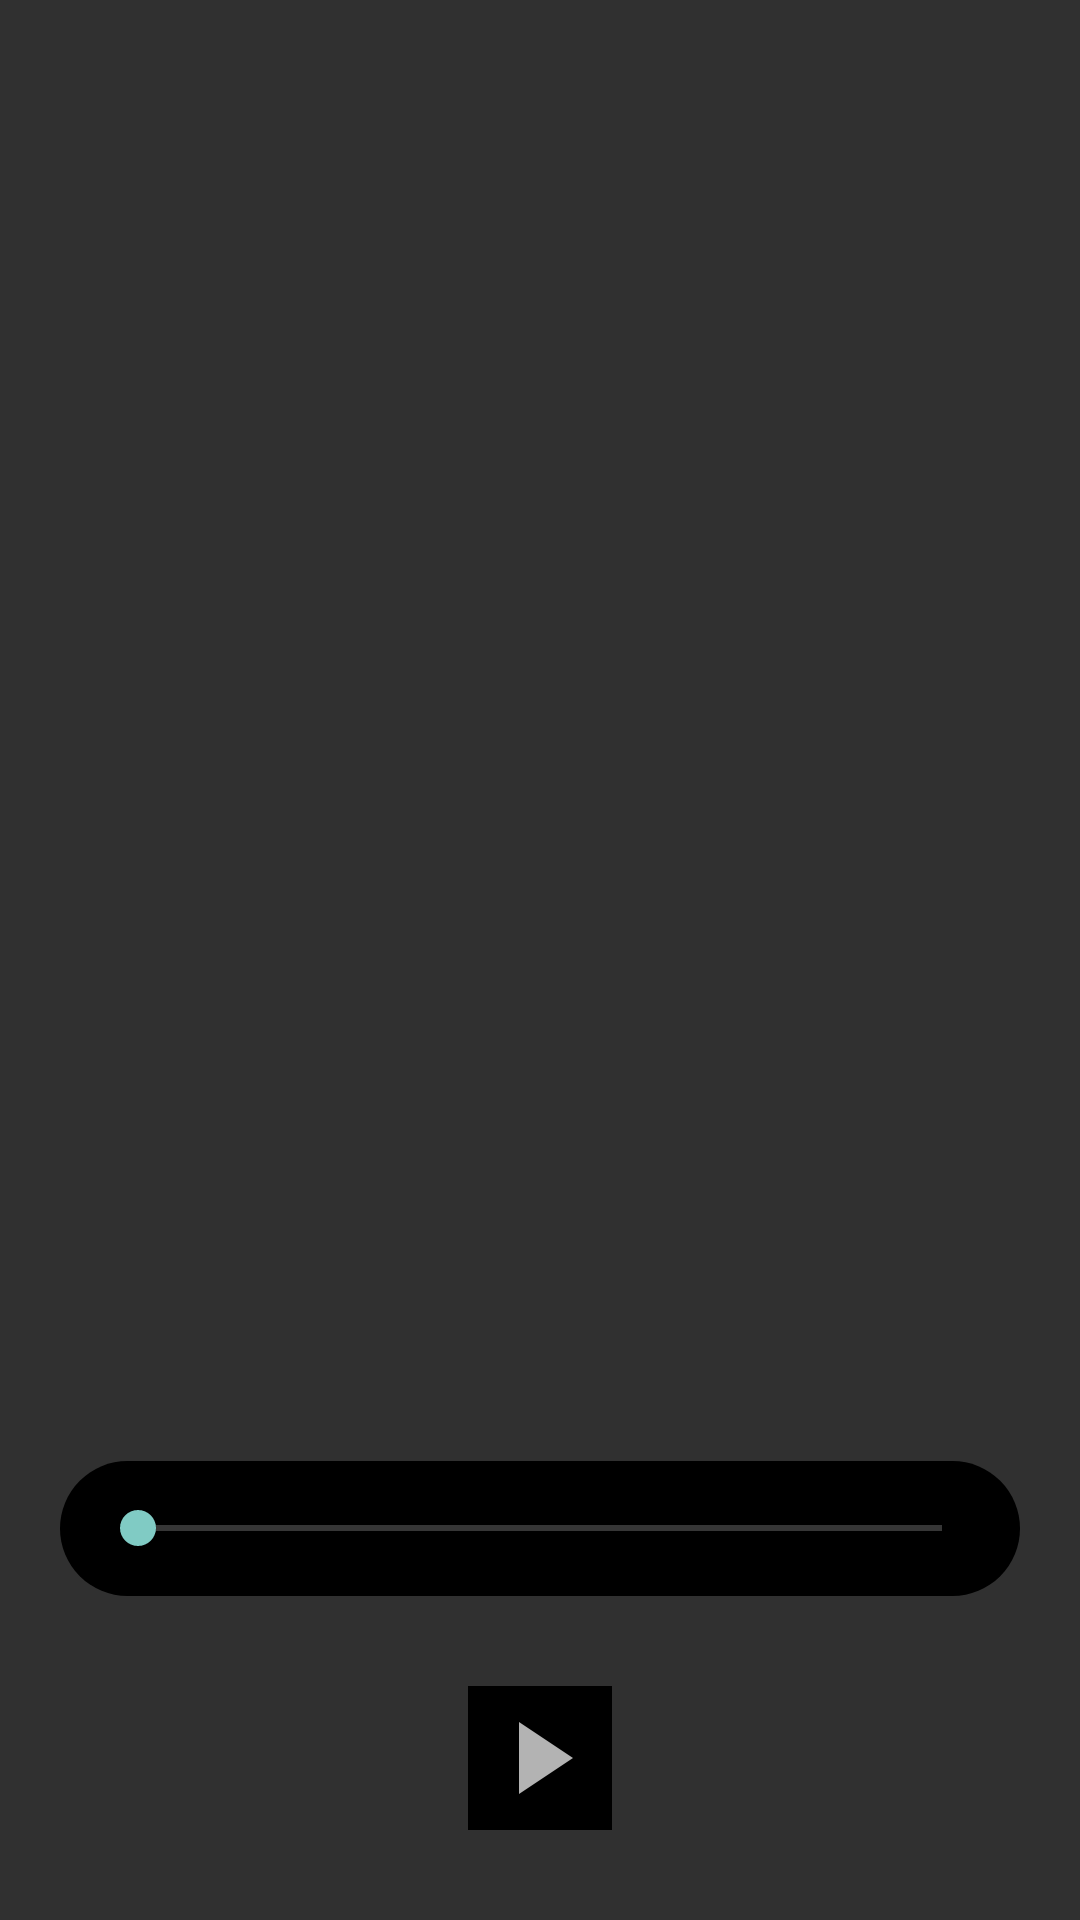

Screen size 1080px×1920px. Icon name, then its box in pixels as [left=x1, top=y1, right=x2, bottom=y2]:
play arrow: [left=468, top=1686, right=612, bottom=1830]
